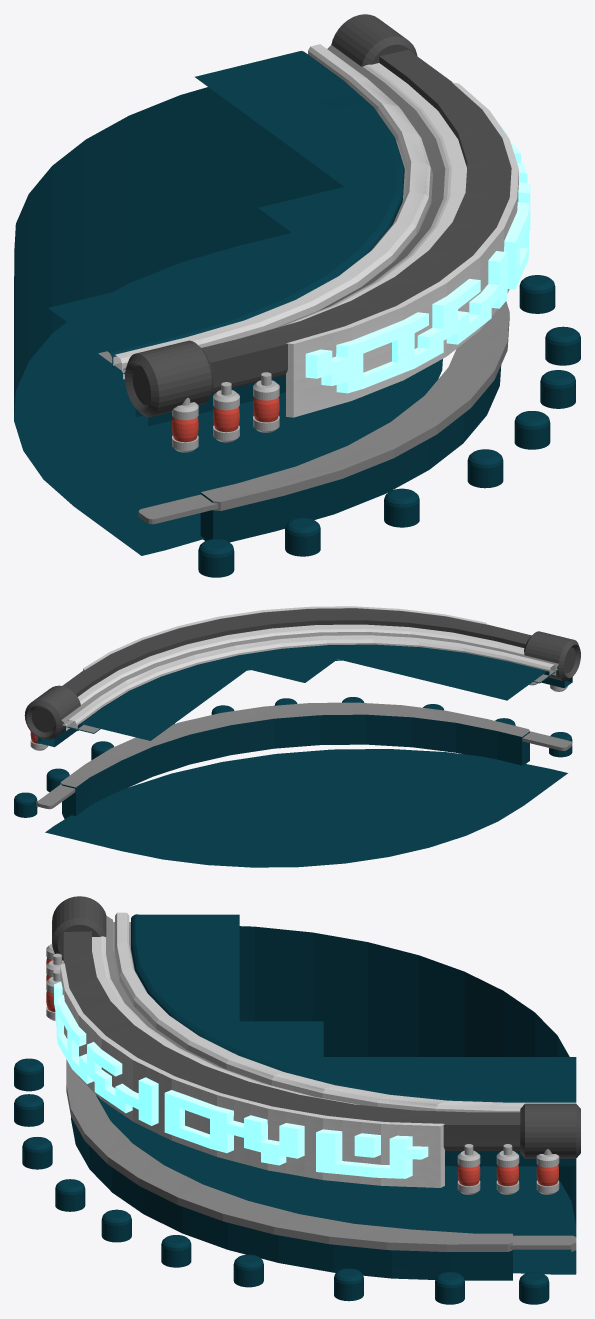
File: MB_Restaurant_Corner_UpperLevel_Wide.fbx
The picture shows the model from 3 angles, top to bottom: view 1: azimuth 30°, elevation 25°; view 2: azimuth 150°, elevation 25°; view 3: azimuth 270°, elevation 25°; orthographic projection. The views are drawn at different scales.
Visible parts, largest first — view 1: Cube.6101; view 2: Cube.6101; view 3: Cube.6101.
Part boxes in pixels (x1=…): Cube.6101: x1=14, y1=14, x2=580, y2=577; Cube.6101: x1=14, y1=606, x2=580, y2=867; Cube.6101: x1=14, y1=896, x2=580, y2=1304.
Size of the model in its own units: 13.47 by 5.03 by 13.47.
